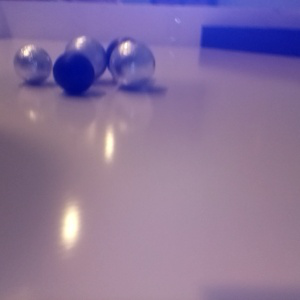alive_ball: (108, 39, 155, 86), (63, 34, 106, 81), (13, 44, 52, 84)
dead_ball: (53, 50, 94, 94), (106, 35, 141, 77)
